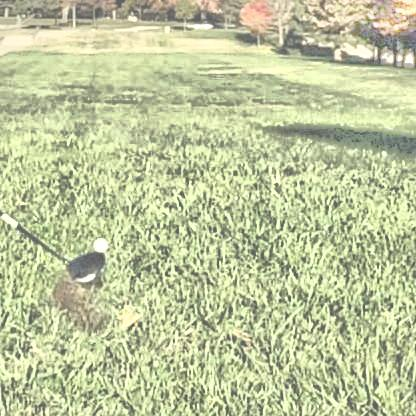golfball: (90, 233, 107, 250)
